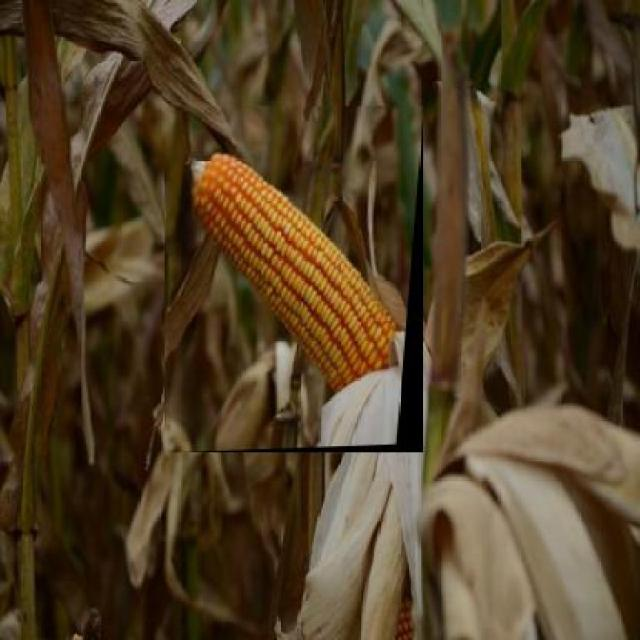Corn: (164, 106, 424, 454)
